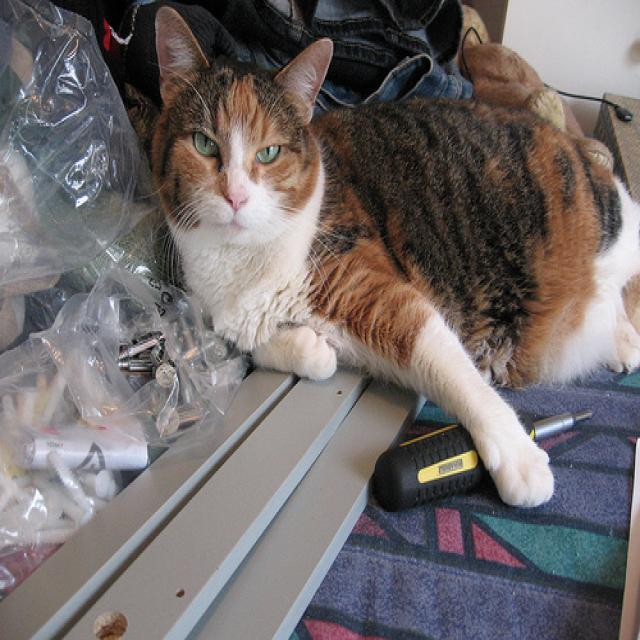screwdriver: (362, 404, 608, 530)
